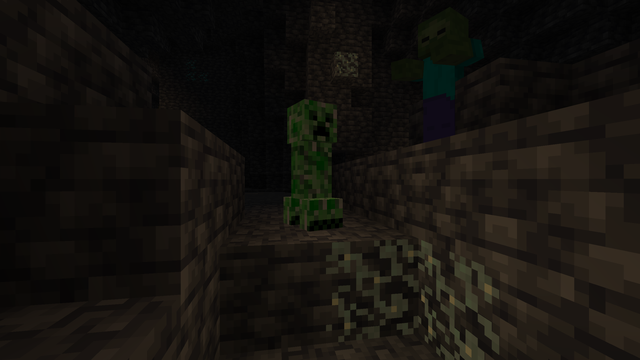creepers: (288, 92, 337, 229)
zombies: (413, 10, 474, 126)
